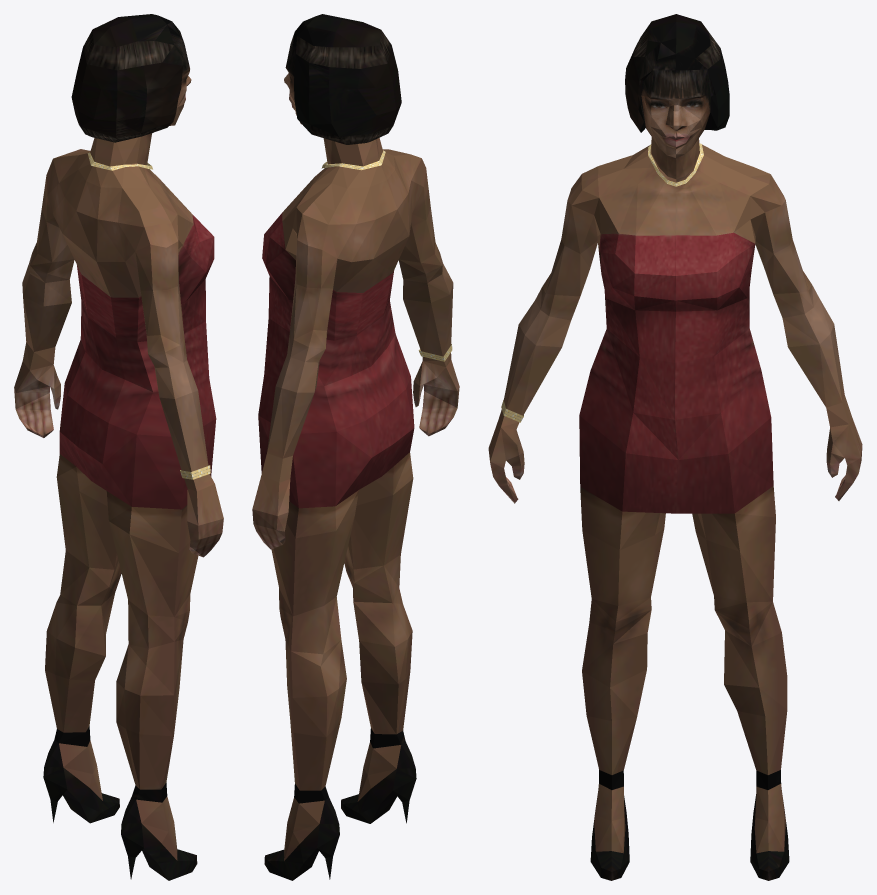
File: hfyri.obj
The picture shows the model from 3 angles, left to right: view 1: azimuth 30°, elevation 25°; view 2: azimuth 150°, elevation 25°; view 3: azimuth 270°, elevation 25°; orthographic projection. The views are drawn at different scales.
Visible parts, largest first — view 1: _Pelvis; view 2: _Pelvis; view 3: _Pelvis.
Boxes of the visible parts, x1,y1,x2,y2 form: _Pelvis: (14, 14, 223, 880); _Pelvis: (252, 14, 459, 880); _Pelvis: (488, 14, 862, 880).
Size of the model in its own units: 0.2648 by 1.71 by 0.6856.
2 materials, 2 textured.
